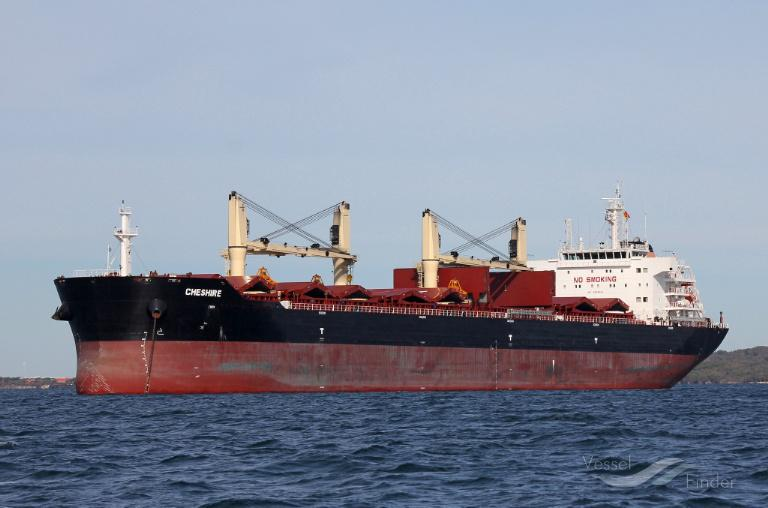OCR: (176, 282, 231, 305)
